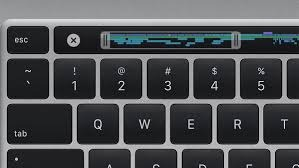keyboard: (2, 4, 297, 168)
